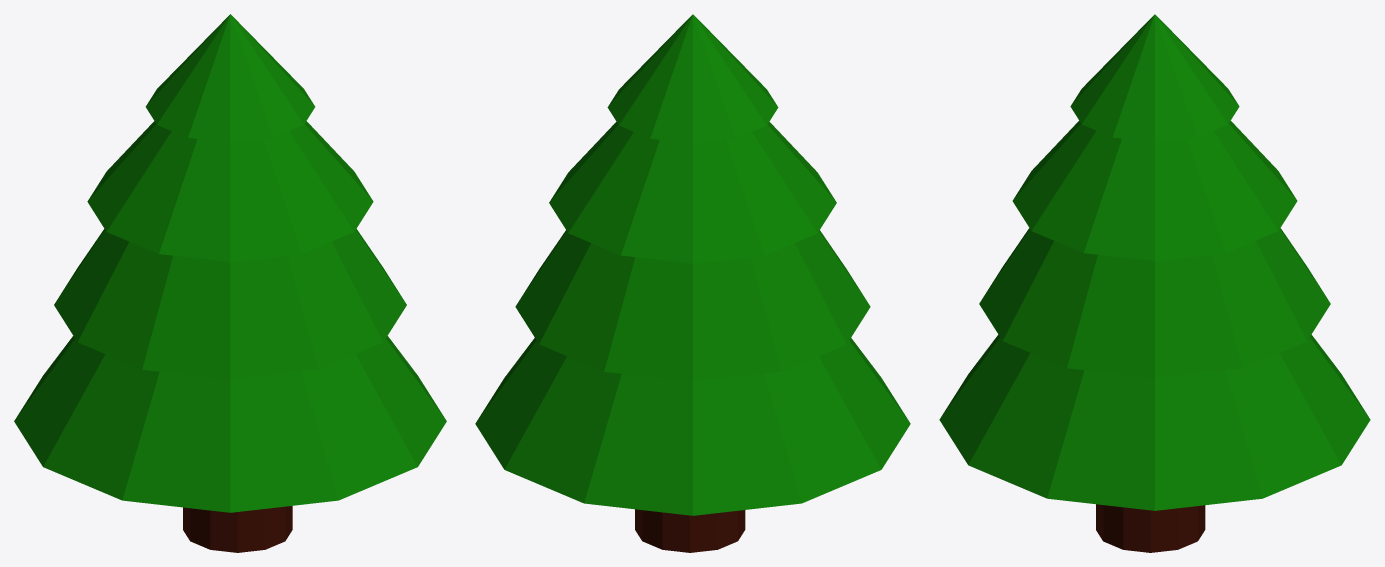
Rendered from LowPolyTree.FBX.
3 renders of one model, left to right at view 1: azimuth 30°, elevation 25°; view 2: azimuth 150°, elevation 25°; view 3: azimuth 270°, elevation 25°, orthographic.
Parts seen in each view (by area): view 1: Tree (×2); view 2: Tree (×2); view 3: Tree (×2).
Boxes of the visible parts, bbox=[...] form: Tree (×2): bbox=[14, 14, 446, 552]; Tree (×2): bbox=[475, 14, 910, 552]; Tree (×2): bbox=[939, 14, 1370, 552].
Bounding box in the file's own units: 42.02 × 55.2 × 42.02.
